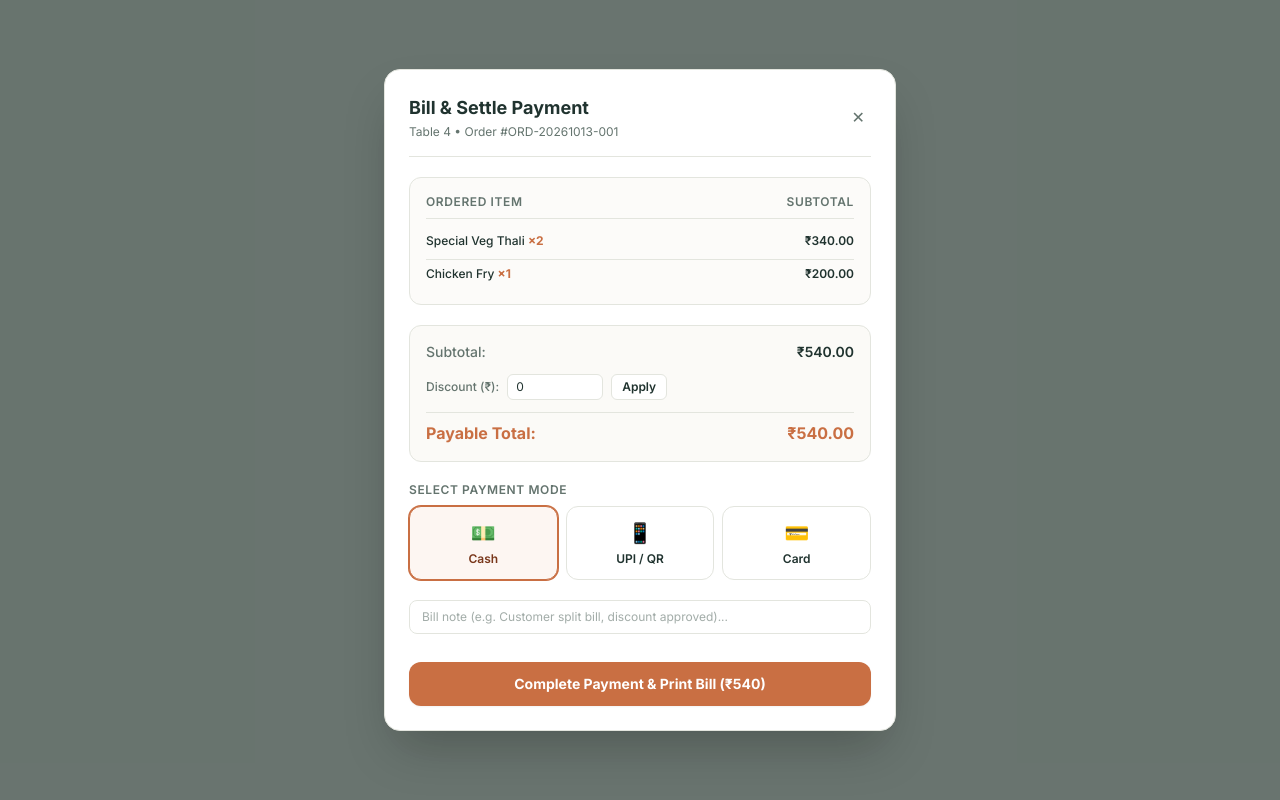
Test: SettleBillModal › shows UPI transaction ref field when UPI mode is selected
Click the button "📱 UPI / QR". click: (640, 543)
box: [566,506,714,580]
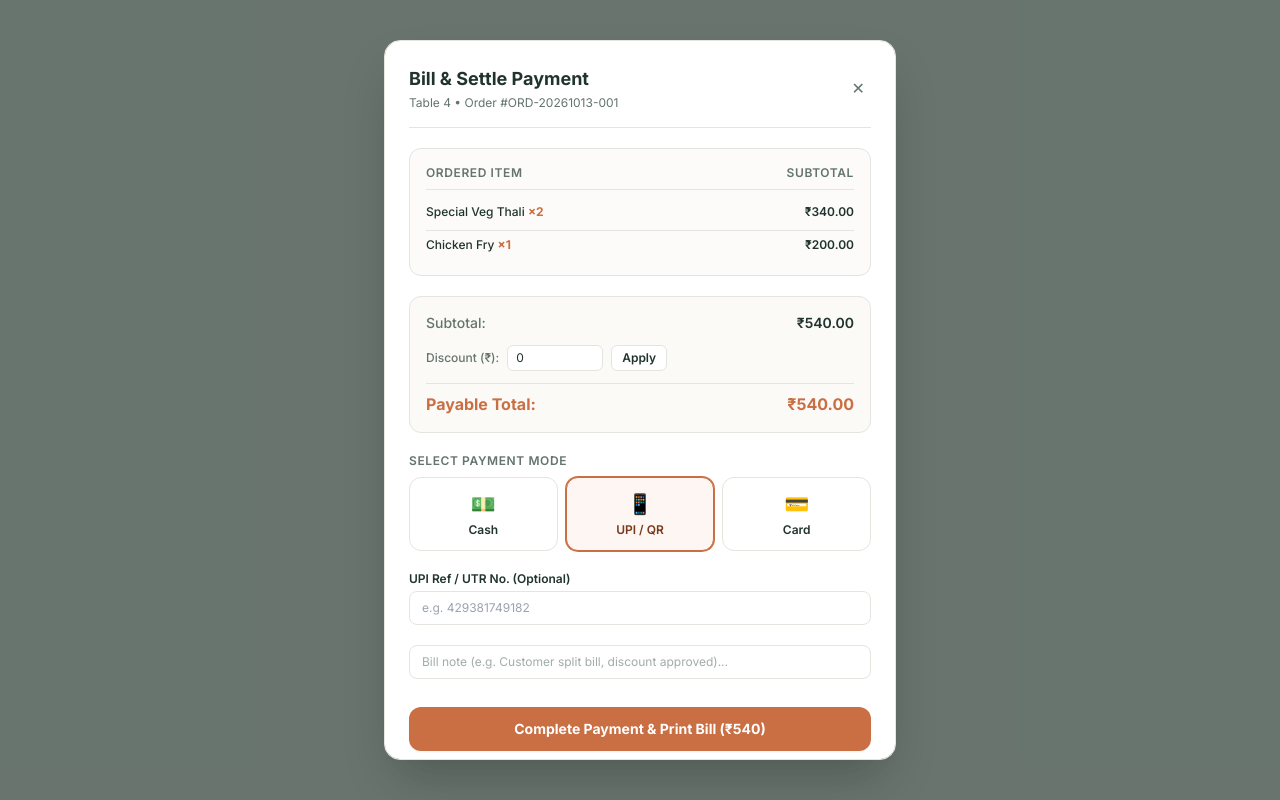
expect the field with placeholder "e.g. 429381749182" is shown: met, box [409,591,871,625]
